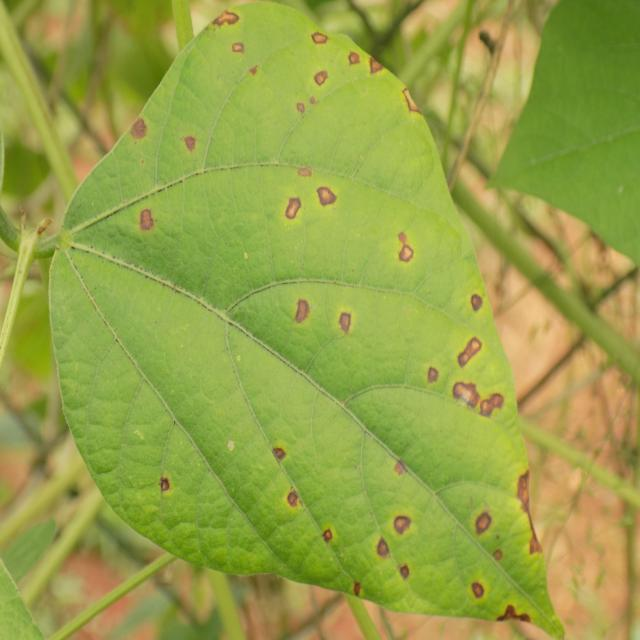Dolicos bean_cercospora leaf spot: (46, 2, 570, 640)
